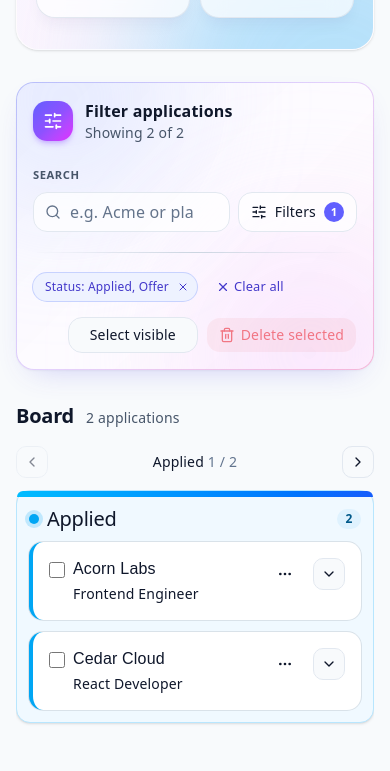
ApplicationsPage API integration › on mobile, column switching skips statuses hidden by the filter
(page scrolled)
Expected: the element named "Applied applications" is shown, [16,490,374,723]
Expected: the text "1 / 2" is shown, [208,452,237,471]
Step 1. Click the button named "Next status column" → x=358, y=462, box [342,446,374,478]
(page scrolled)
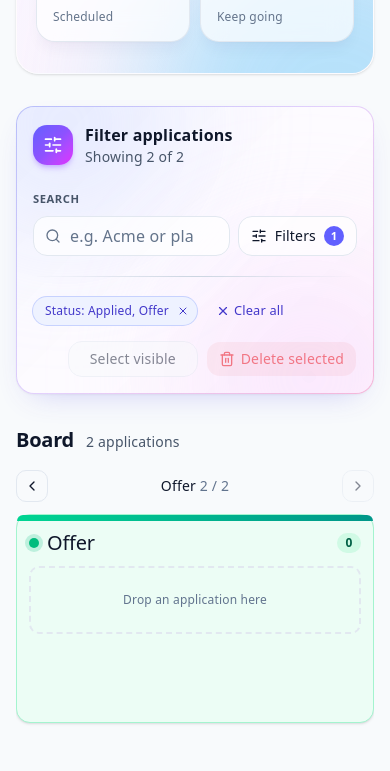
Result: the element named "Offer applications" is shown at [16,514,374,723]
